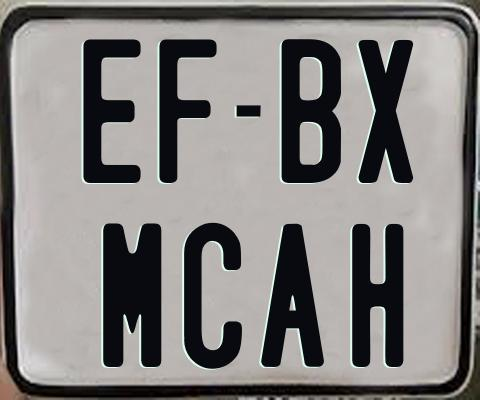A: (261, 222, 329, 365)
B: (281, 36, 345, 182)
C: (184, 221, 247, 373)
E: (82, 37, 142, 182)
F: (159, 37, 221, 183)
H: (350, 223, 408, 371)
M: (103, 221, 166, 368)
X: (358, 38, 418, 182)
